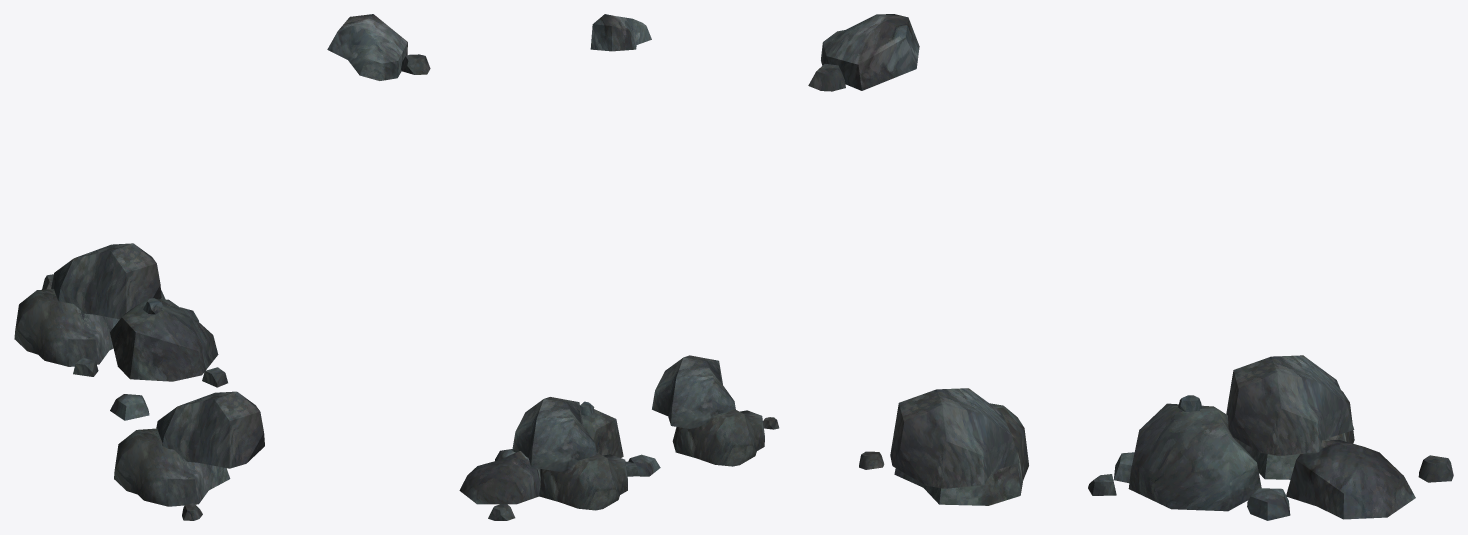
The model's file is object_rubble29.fbx.
3 renders of one model, left to right at view 1: azimuth 30°, elevation 25°; view 2: azimuth 150°, elevation 25°; view 3: azimuth 270°, elevation 25°, orthographic. The views are drawn at different scales.
Parts seen in each view (by area): view 1: Material_#238683587/cliffside; view 2: Material_#238683587/cliffside; view 3: Material_#238683587/cliffside.
Part boxes in pixels (x1=…): Material_#238683587/cliffside: x1=14, y1=14, x2=430, y2=520; Material_#238683587/cliffside: x1=459, y1=14, x2=779, y2=520; Material_#238683587/cliffside: x1=808, y1=14, x2=1453, y2=520.
Bounding box in the file's own units: 4.91 × 8.55 × 8.93.
